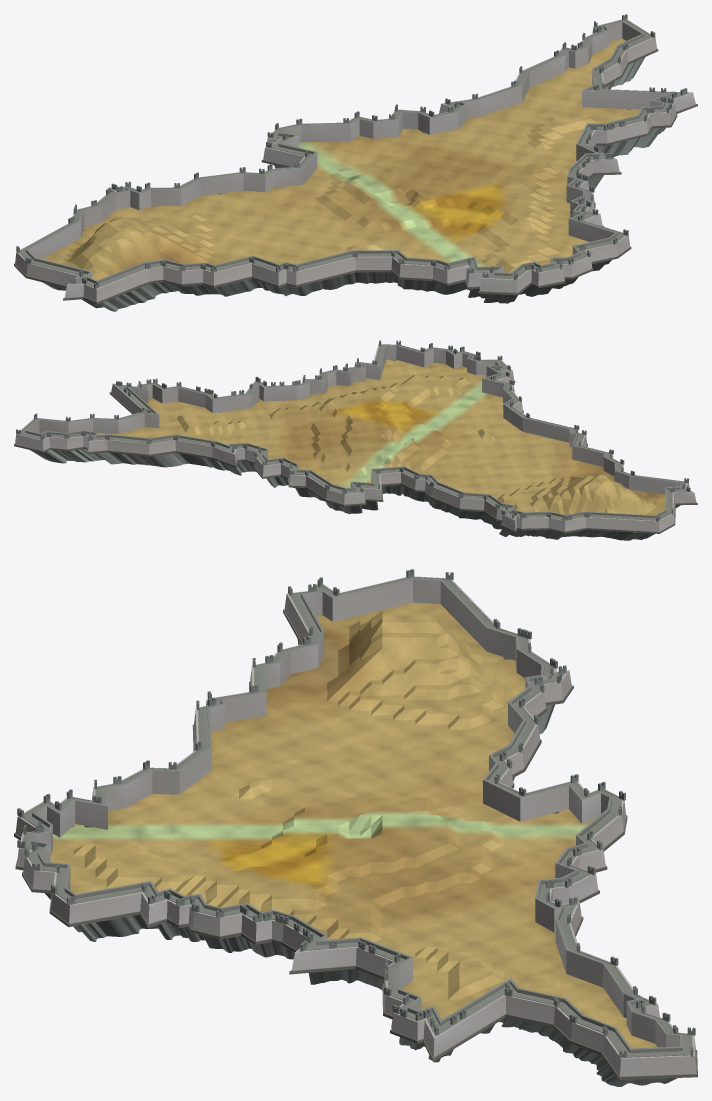
The picture shows the model from 3 angles, top to bottom: view 1: azimuth 30°, elevation 25°; view 2: azimuth 150°, elevation 25°; view 3: azimuth 270°, elevation 25°; orthographic projection. The views are drawn at different scales.
Parts seen in each view (by area): view 1: ground_b61b2d5f; view 2: ground_b61b2d5f; view 3: ground_b61b2d5f.
Boxes of the visible parts, x1,y1,x2,y2 form: ground_b61b2d5f: (14, 14, 697, 311); ground_b61b2d5f: (14, 340, 697, 540); ground_b61b2d5f: (14, 569, 697, 1086).
Size of the model in its own units: 156 by 9.92 by 93.07.
3 materials, 1 textured.
